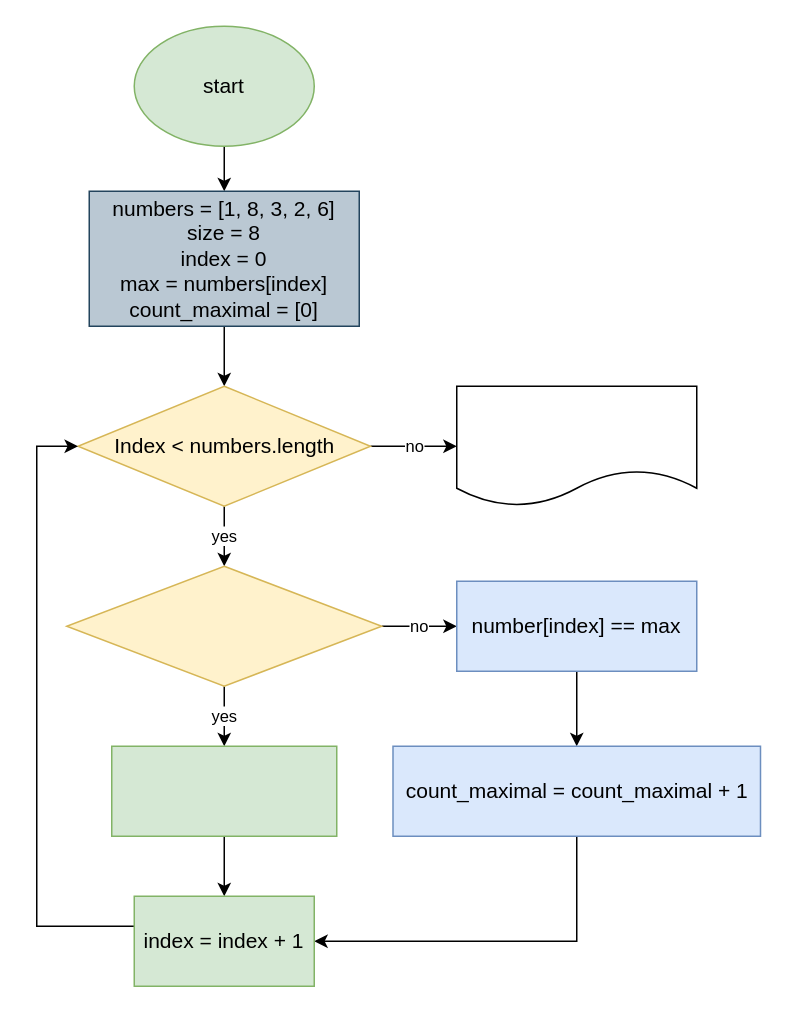
Some shapes in this 788 by 1013 pixel diagram are drawn without their labels. Each missing label, with the centre of its shape:
"max = numbers[index] count_maximal = 1" belongs at point (223, 790).
"numbers[index] > max" belongs at point (223, 625).
"print(count_maximal)" belongs at point (576, 445).
